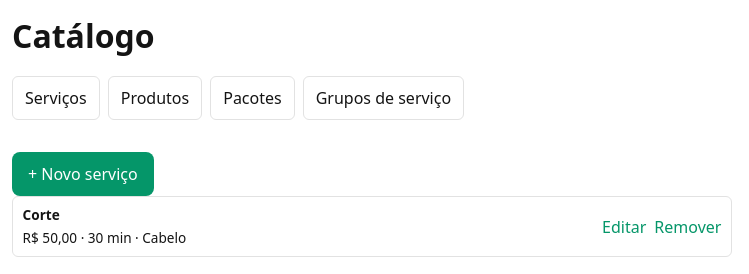
Scenario: CatalogoPage › switches to the products tab and shows stock on hand
Expected: the text "Corte" is shown, [23,205,60,224]
Click the button "Produtos" at (155, 98), box [108,76,202,120]
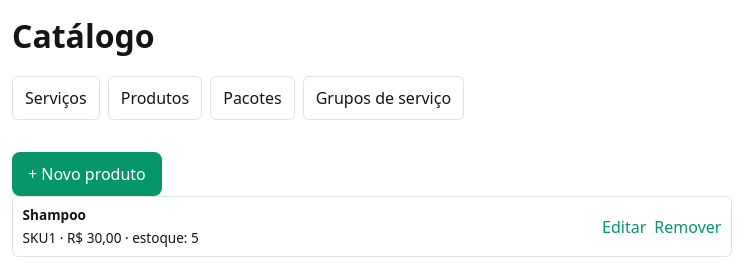
Now the text "SKU1 · R$ 30,00 · estoque: 5" is shown, box [23,228,199,247]
